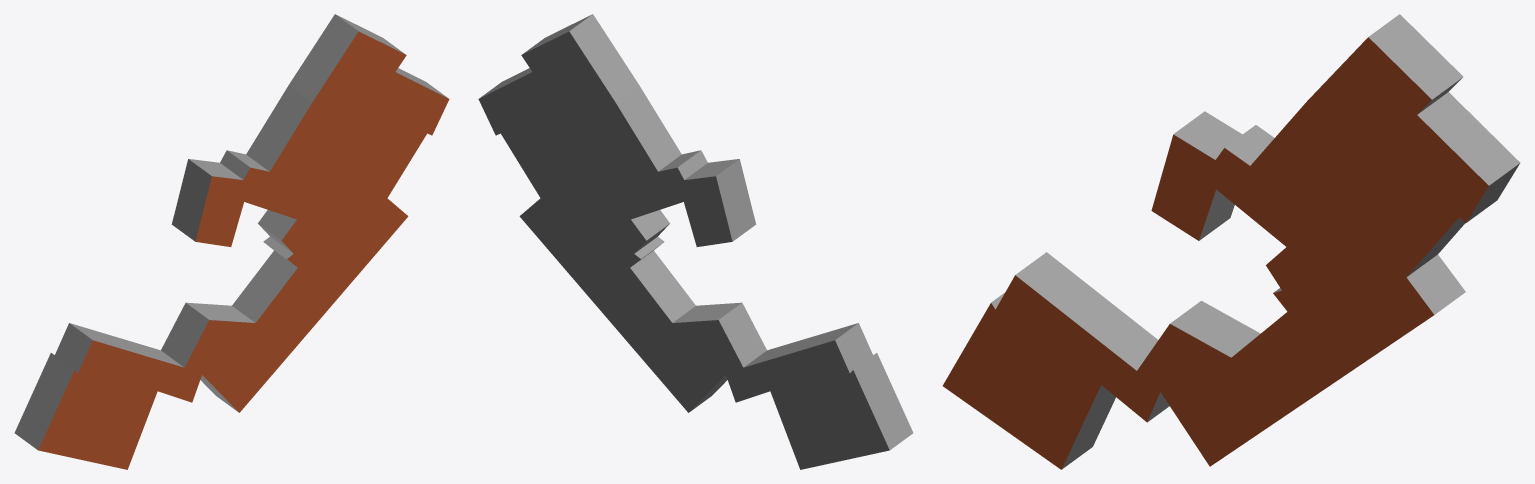
Rendered from construction_2828_assumed_A_Casa_h6m.obj.
3 views of the same model, side by side, from view 1: azimuth 30°, elevation 25°; view 2: azimuth 150°, elevation 25°; view 3: azimuth 330°, elevation 25° (orthographic). The views are drawn at different scales.
Visible parts, largest first — view 1: construction_2828_assumed_A_Casa; view 2: construction_2828_assumed_A_Casa; view 3: construction_2828_assumed_A_Casa.
Part boxes in pixels (x1=…): construction_2828_assumed_A_Casa: x1=14, y1=14, x2=449, y2=469; construction_2828_assumed_A_Casa: x1=478, y1=14, x2=913, y2=469; construction_2828_assumed_A_Casa: x1=942, y1=14, x2=1520, y2=469.
Size of the model in its own units: 60.09 by 53.35 by 6.
